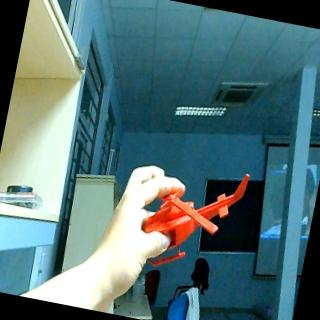Helicopter: (137, 154, 250, 280)
